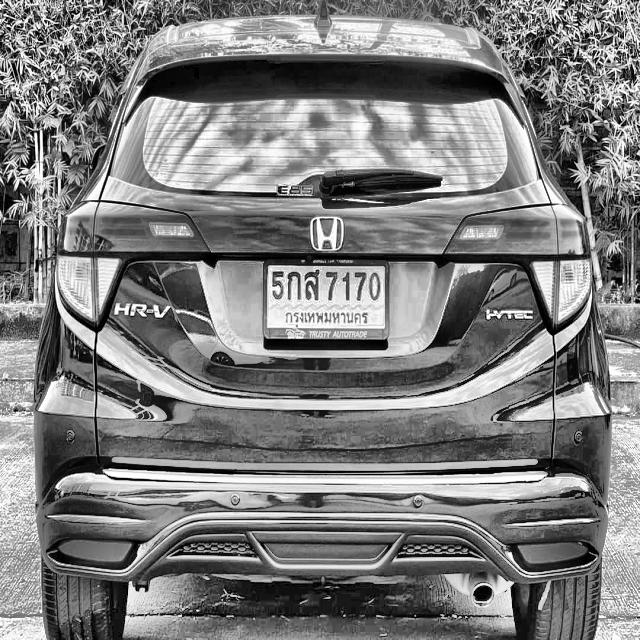license-plate: (263, 256, 390, 340)
